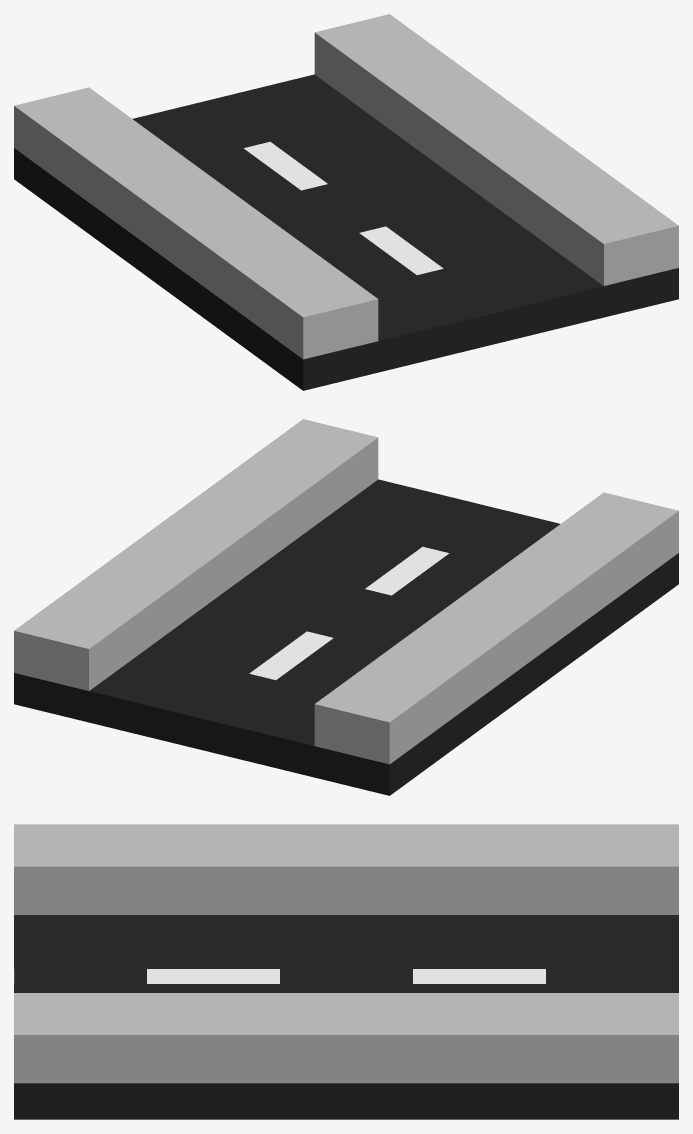
Rendered from Road_preset.FBX.
3 views of the same model, one above another, from view 1: azimuth 30°, elevation 25°; view 2: azimuth 150°, elevation 25°; view 3: azimuth 270°, elevation 25° (orthographic). The views are drawn at different scales.
Parts seen in each view (by area): view 1: Box001; view 2: Box001; view 3: Box001.
Boxes of the visible parts, x1=… form: Box001: x1=14, y1=14, x2=678, y2=390; Box001: x1=14, y1=419, x2=678, y2=795; Box001: x1=14, y1=824, x2=678, y2=1119.
Bounding box in the file's own units: 75 × 14.02 × 100.
